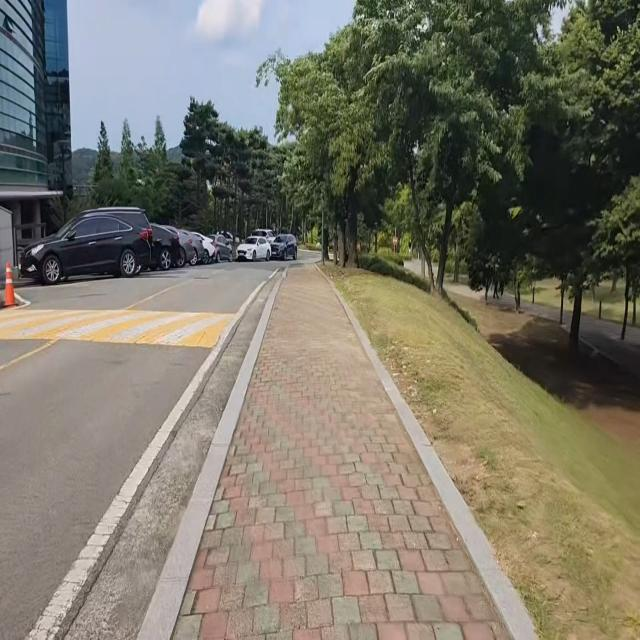obstacle: (21, 202, 155, 286), (148, 220, 300, 273), (2, 255, 20, 311)
road: (0, 265, 285, 640)
sidewalk: (134, 262, 543, 640)
